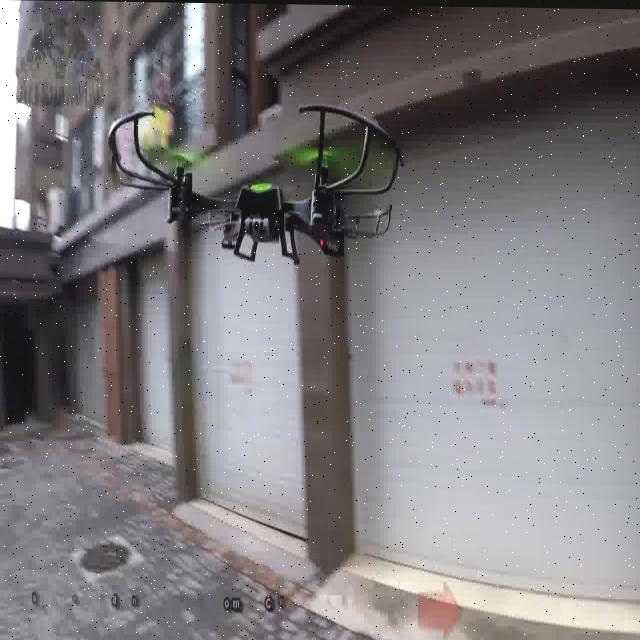drone: (114, 91, 406, 279)
